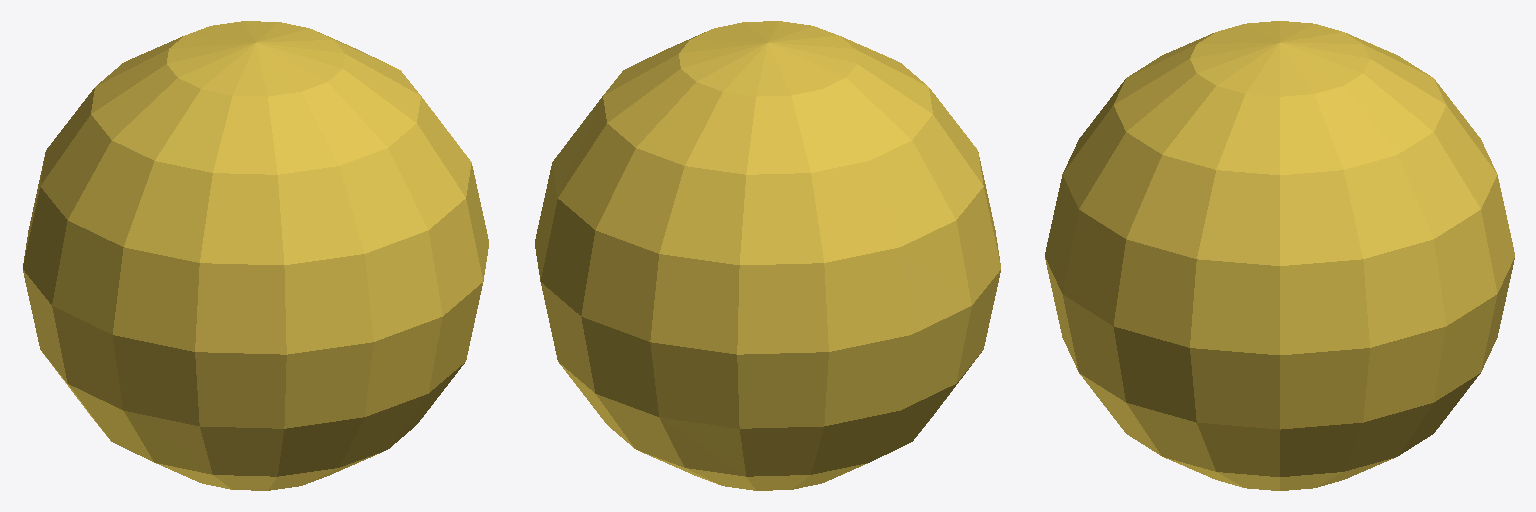
Rendered from boundingsphere.obj.
The picture shows the model from 3 angles: view 1: azimuth 30°, elevation 25°; view 2: azimuth 150°, elevation 25°; view 3: azimuth 270°, elevation 25°; orthographic projection.
Visible parts, largest first — view 1: Sphere001; view 2: Sphere001; view 3: Sphere001.
Part boxes in pixels (x1,y1,x2,y2): Sphere001: (23,21,488,490); Sphere001: (535,21,1000,490); Sphere001: (1045,21,1514,490).
Size of the model in its own units: 0.9842 by 0.9842 by 0.9842.